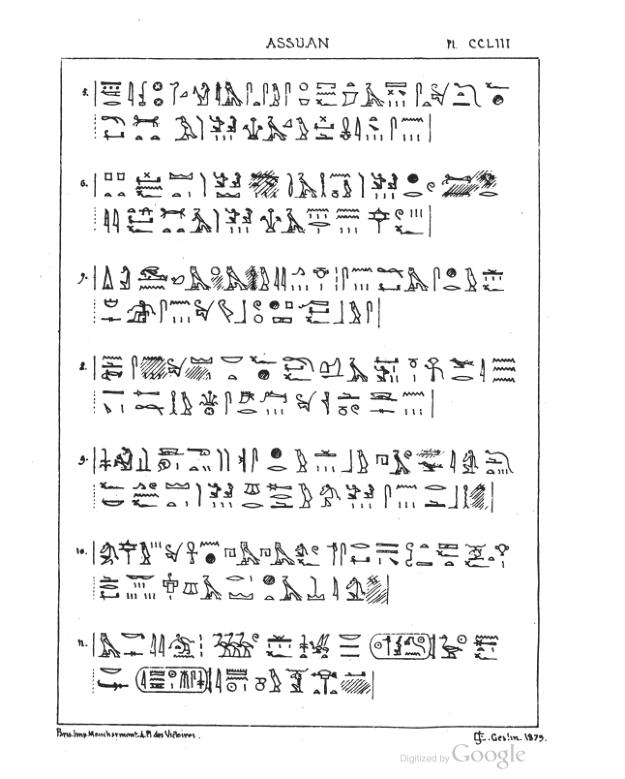circle: (131, 663, 216, 694), (366, 629, 439, 663)
